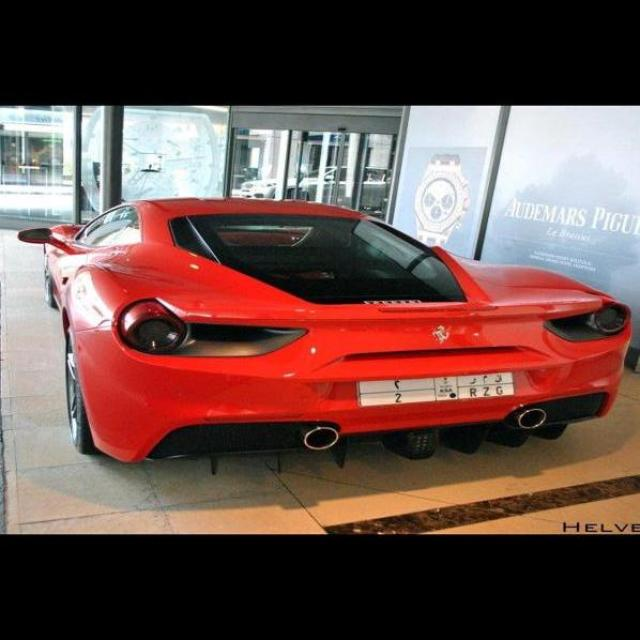license_plate: (358, 372, 521, 404)
